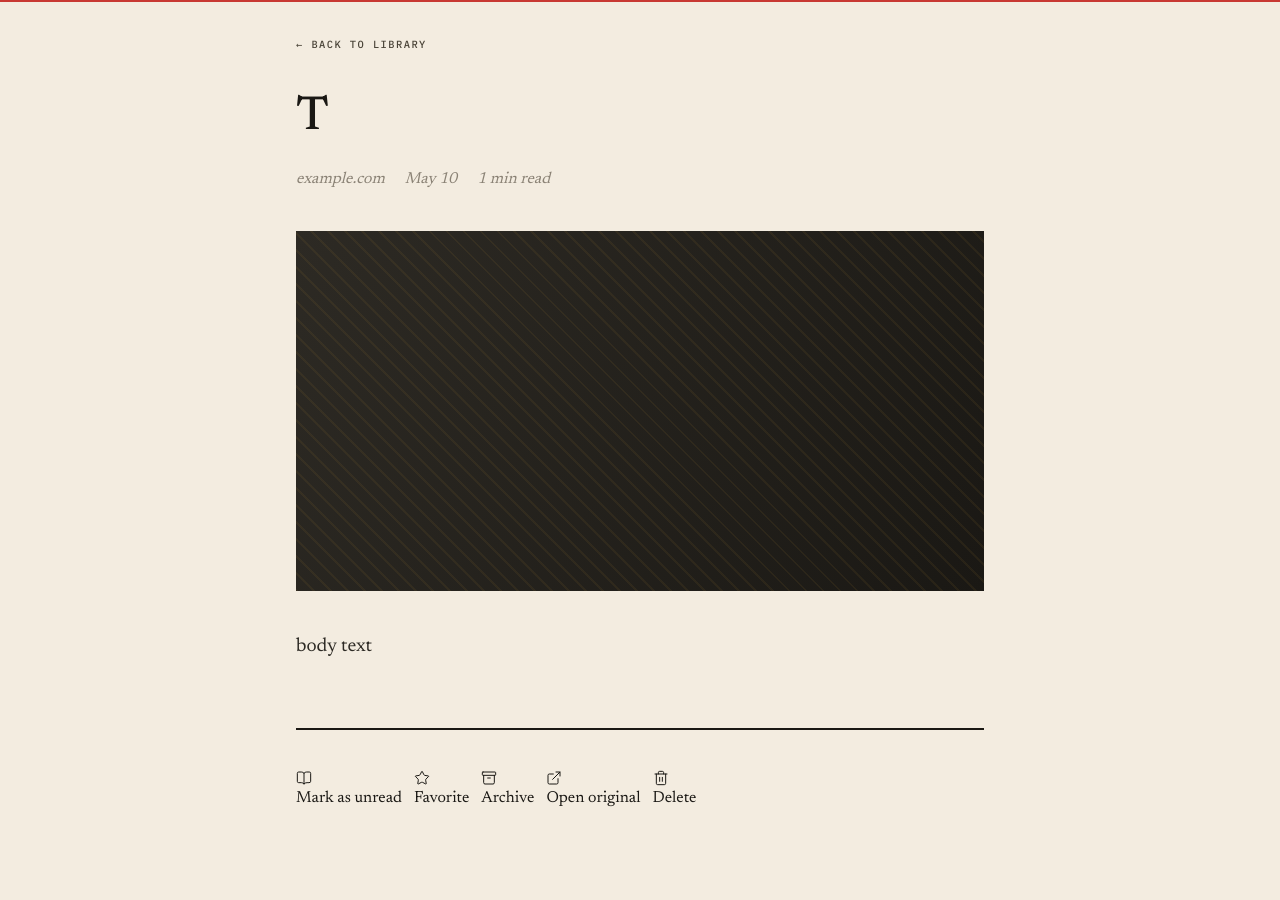
it: LibraryItemRoute auto mark-as-read › does not undo a manual 'Mark as unread' while scrolled to the bottom
Click the button "Mark as unread": [349, 790] box [296, 770, 402, 810]
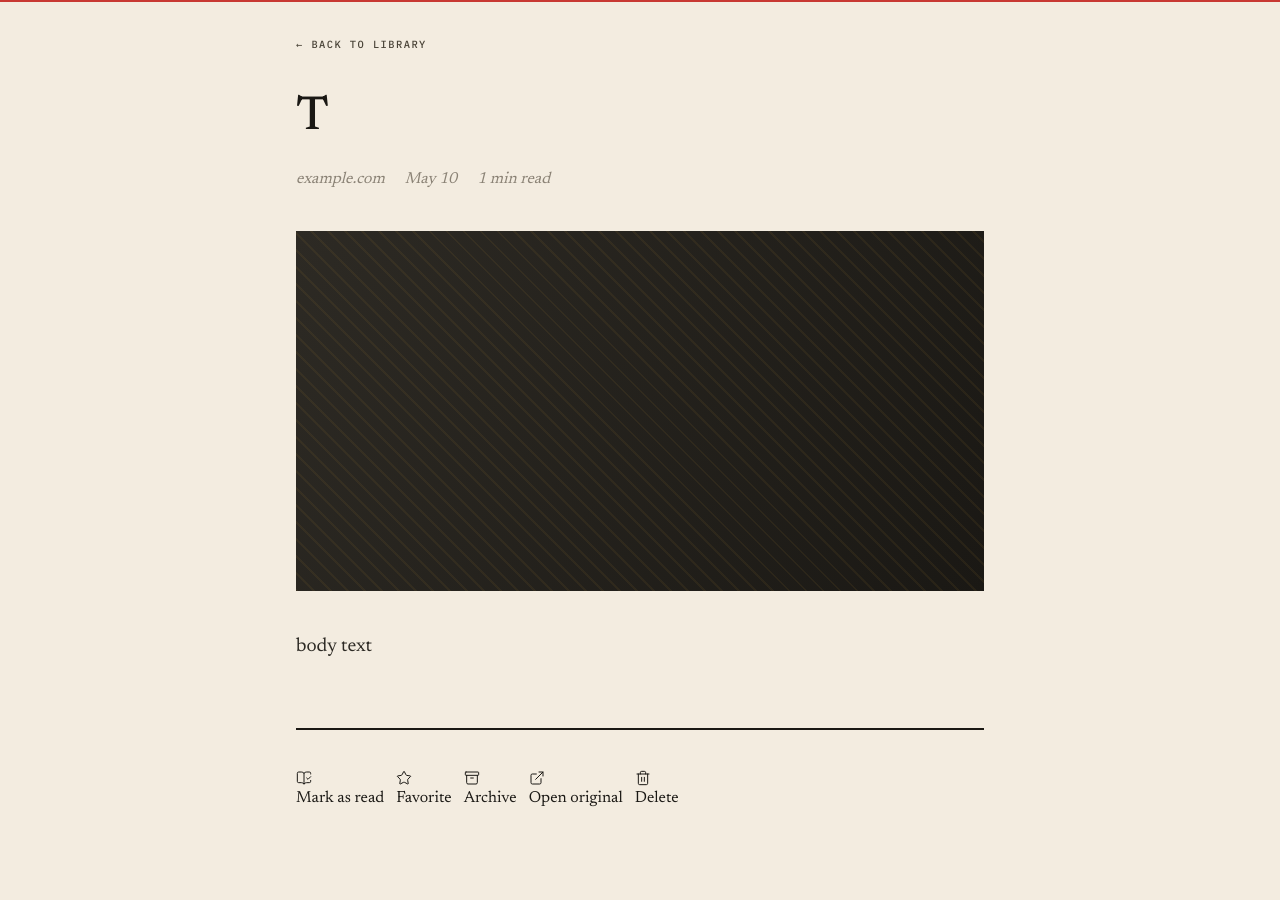
Result: the button "Mark as read" is shown at [296, 770, 384, 810]
